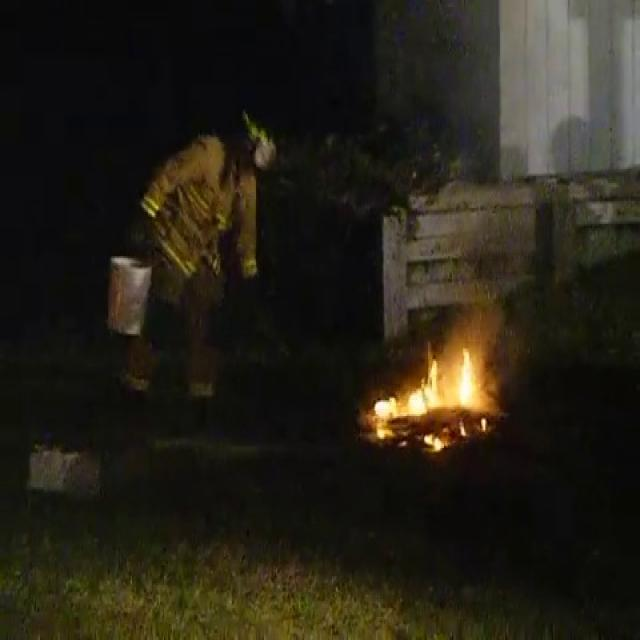Fire: (369, 329, 491, 446)
